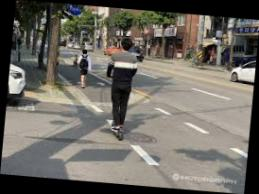nonhelmet: (98, 36, 146, 143)
